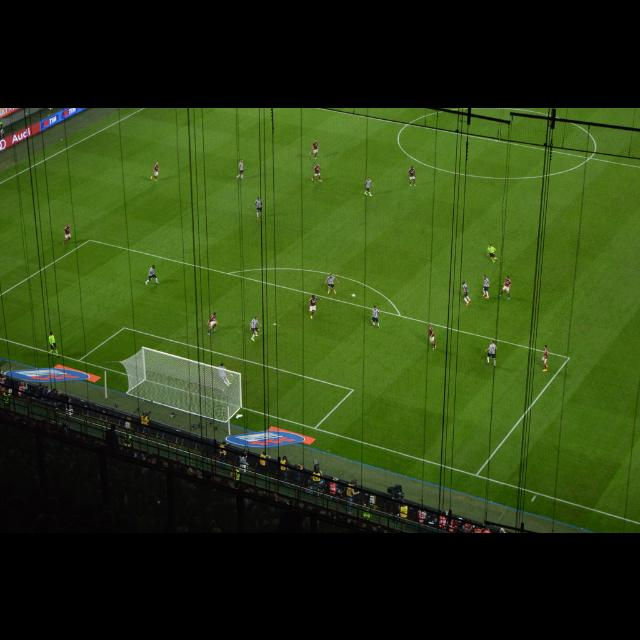Football: (350, 294, 354, 296)
